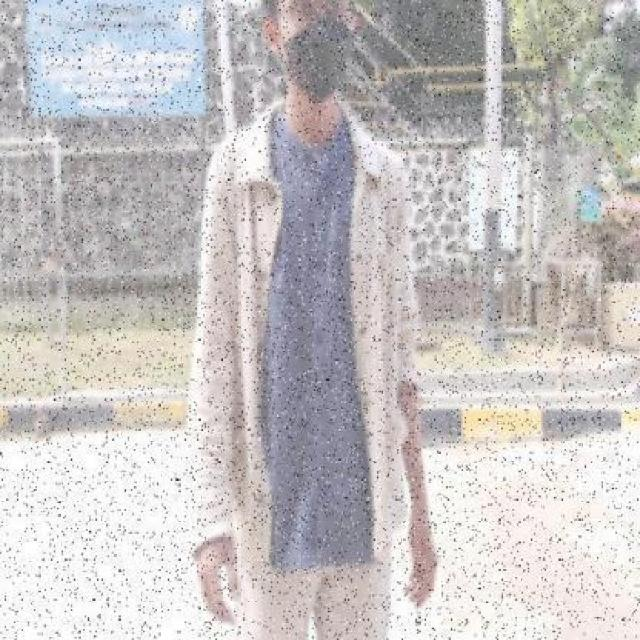Mask: (280, 21, 357, 97)
